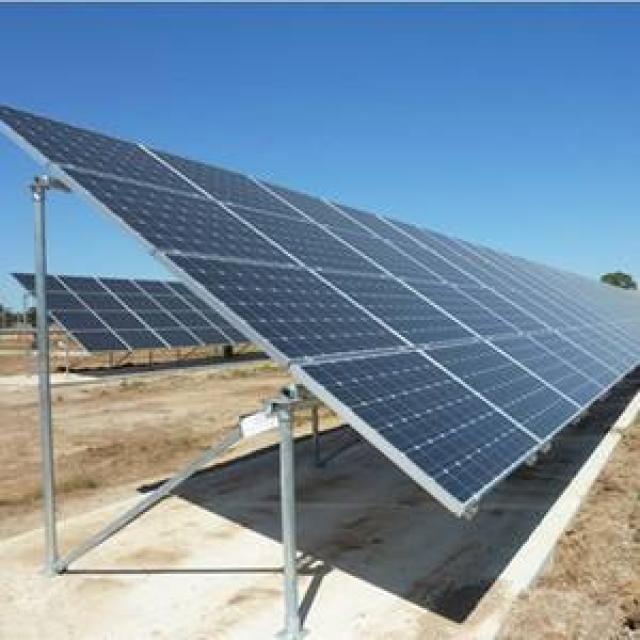clean-solar-panel: (0, 107, 640, 514)
